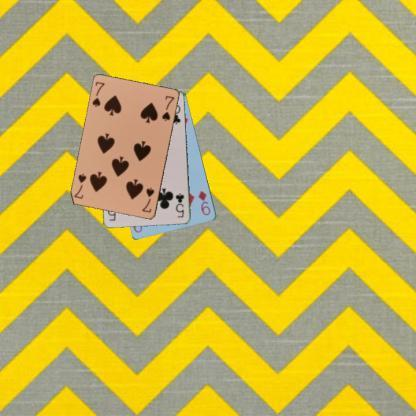5c: (173, 191, 185, 220)
7s: (139, 185, 156, 214), (90, 79, 106, 109)
9d: (196, 188, 212, 217)
